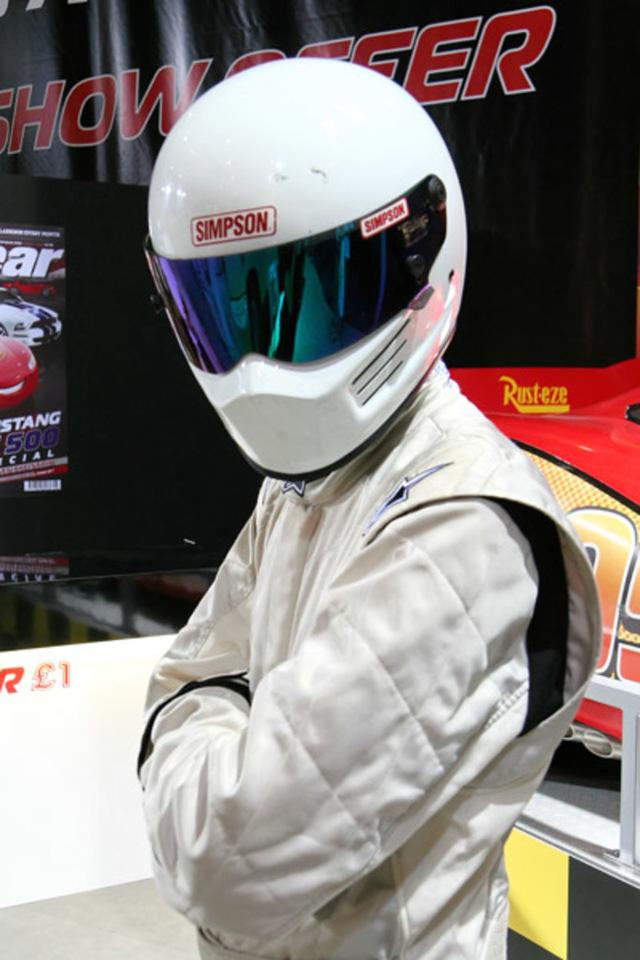helmet: (155, 87, 465, 421)
